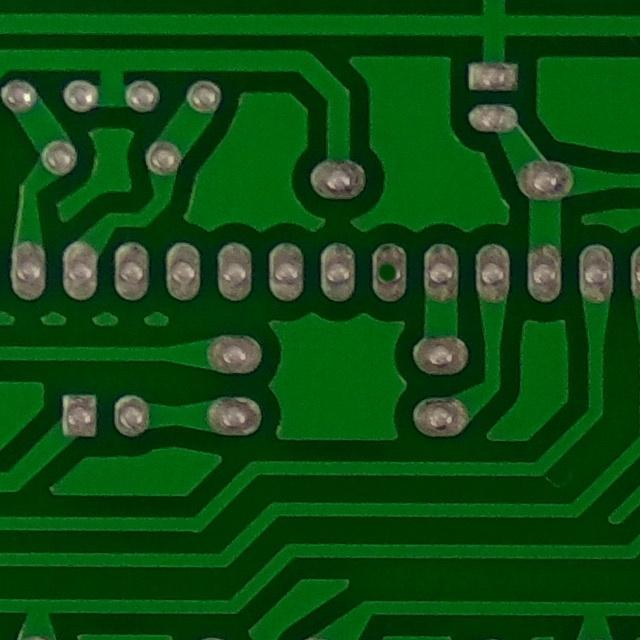missing_hole: (358, 241, 418, 304)
